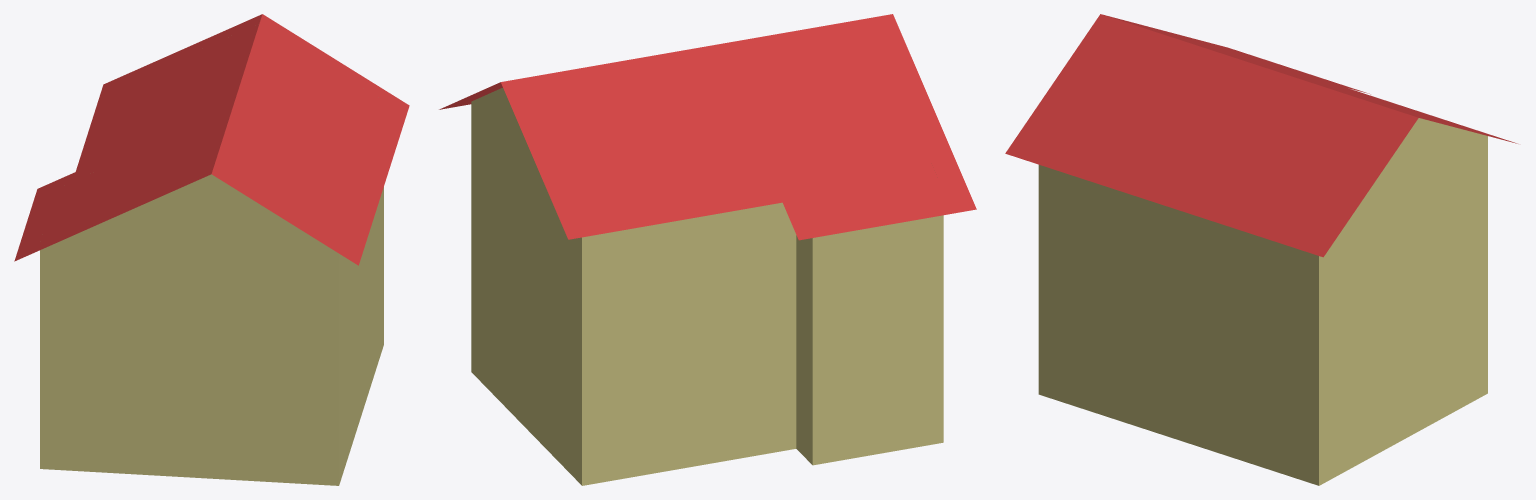
3 renders of one model, left to right at view 1: azimuth 30°, elevation 25°; view 2: azimuth 150°, elevation 25°; view 3: azimuth 270°, elevation 25°, orthographic. The views are drawn at different scales.
Parts seen in each view (by area): view 1: group_5, group_3, group_4; view 2: group_5, group_3, group_4; view 3: group_5, group_3, group_4.
Part boxes in pixels (x1,y1,x2,y2): group_5: (40, 174, 383, 485); group_3: (40, 14, 383, 265); group_4: (14, 14, 409, 264); group_5: (471, 87, 943, 485); group_3: (439, 18, 972, 239); group_4: (490, 14, 976, 240); group_5: (1038, 118, 1487, 485); group_3: (1005, 14, 1517, 250); group_4: (1007, 14, 1444, 257).
Size of the model in its own units: 16.7 by 16.14 by 11.38.
